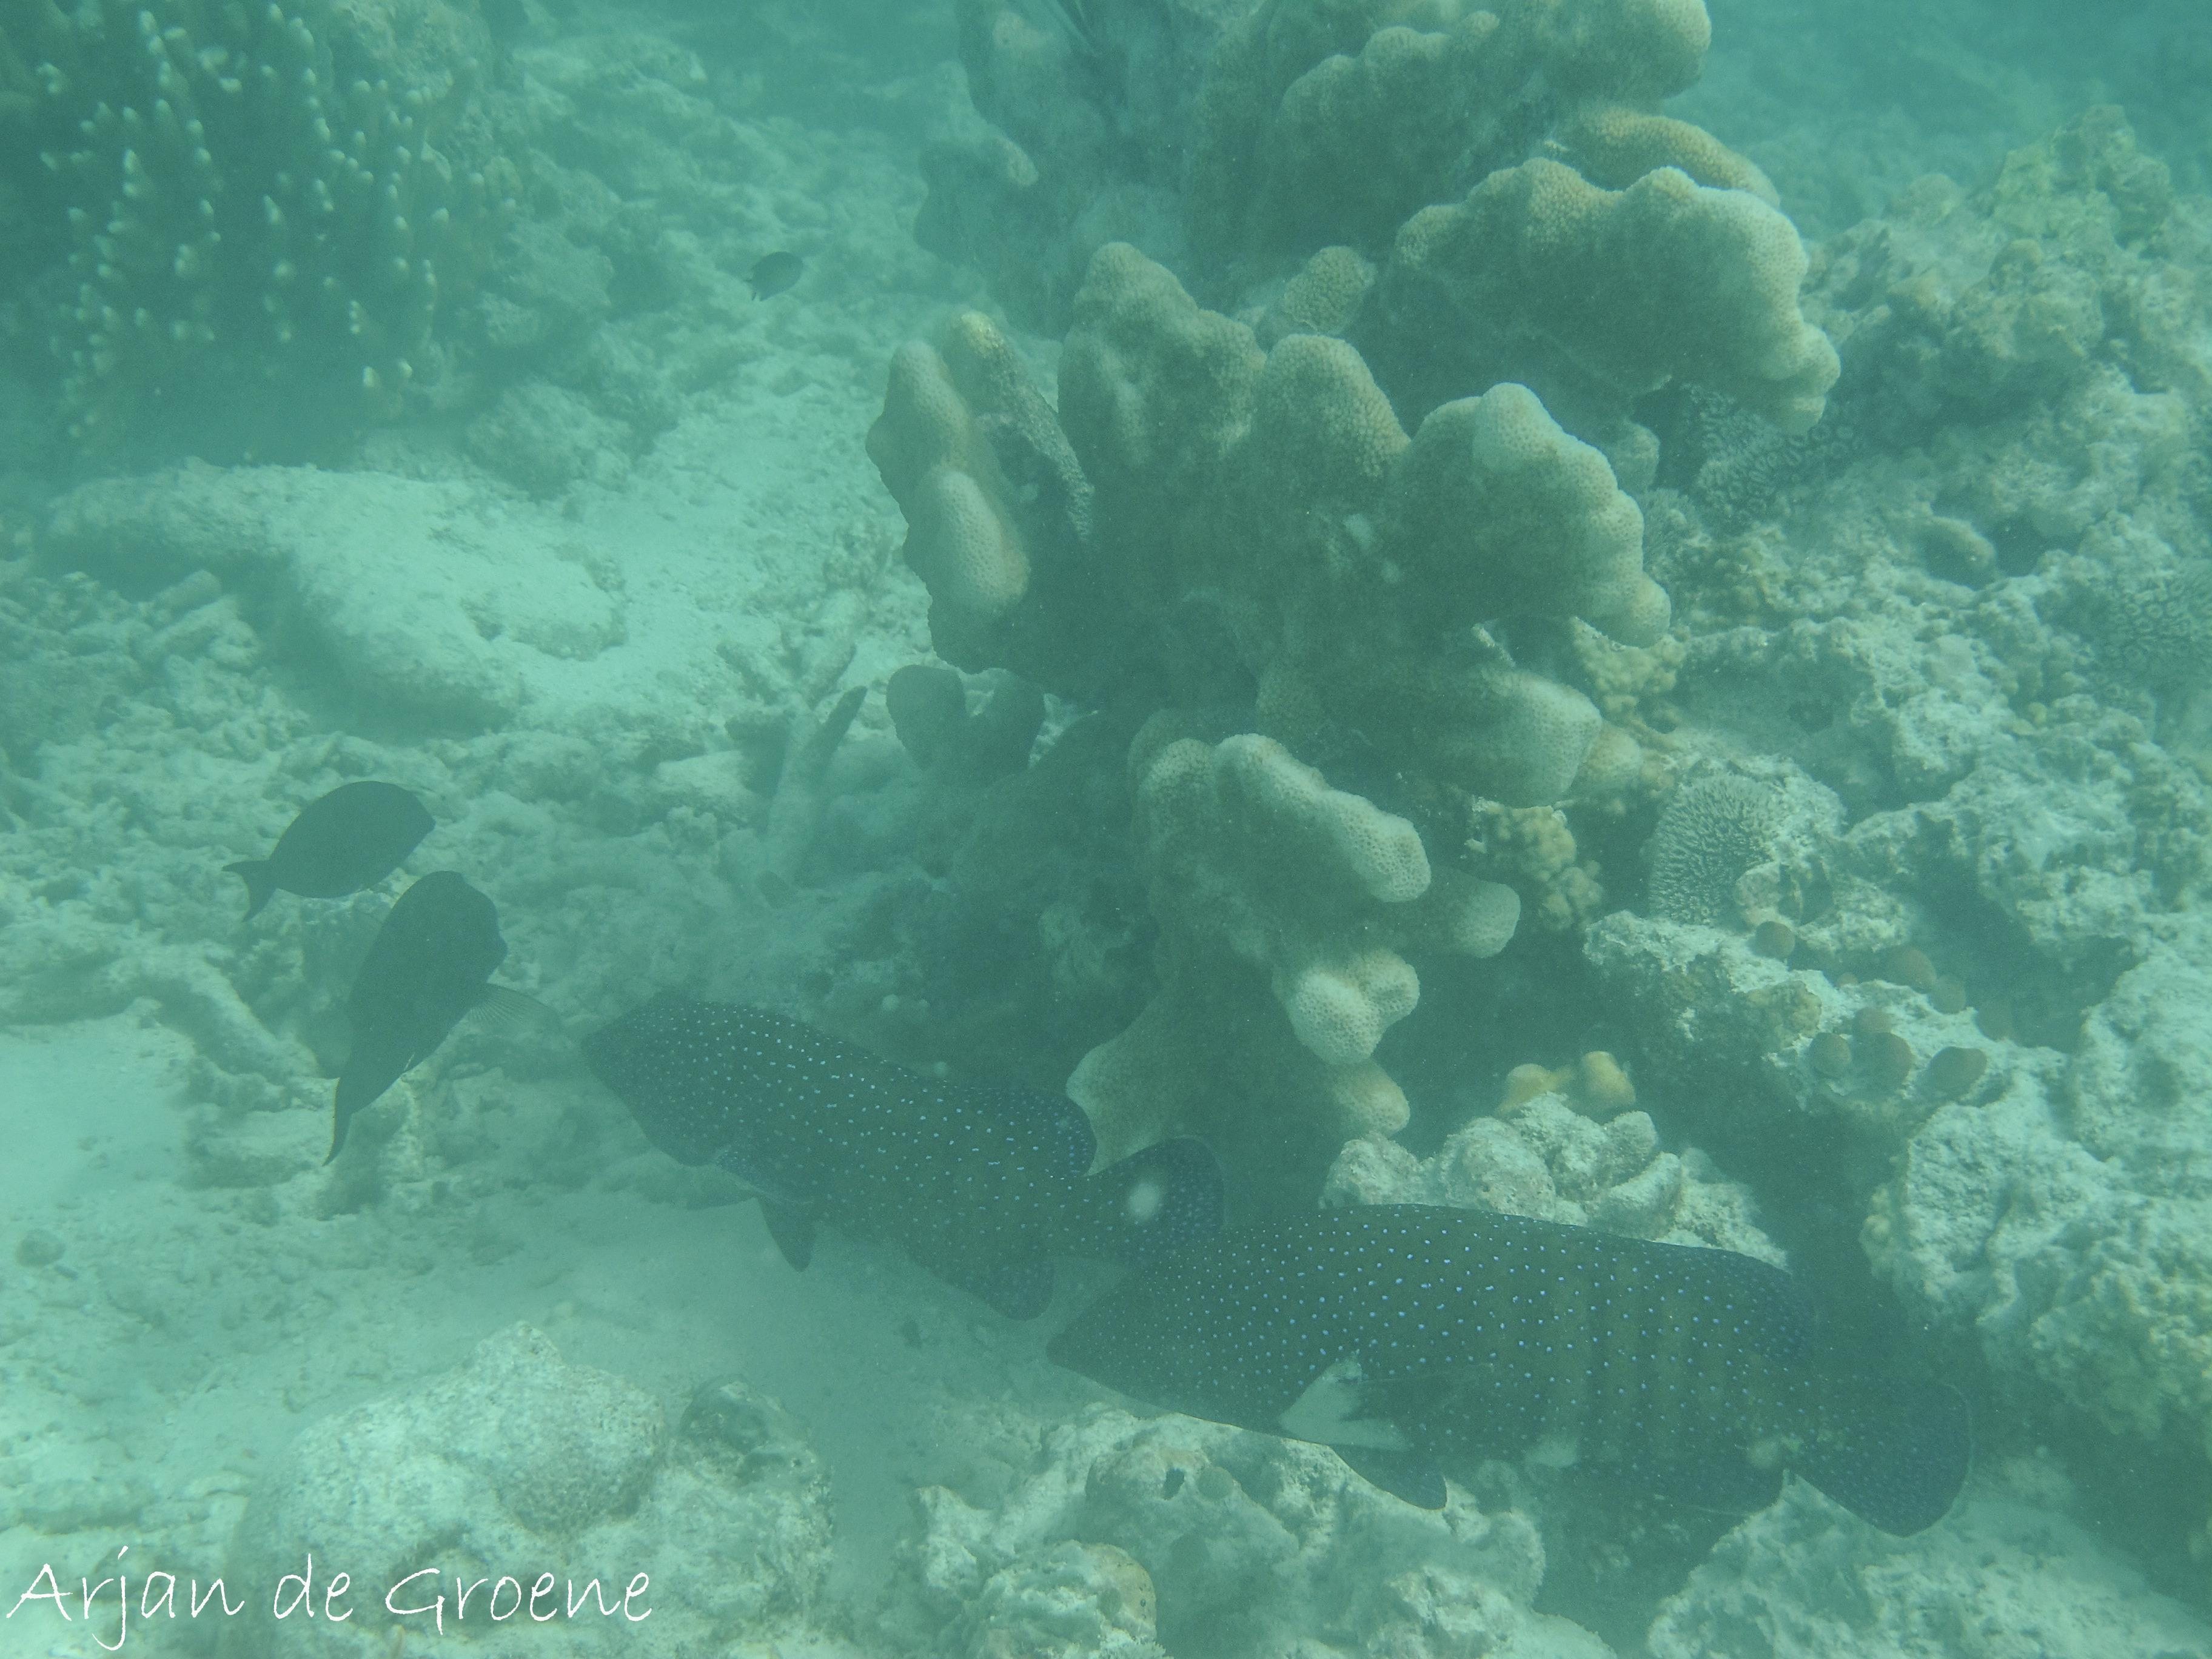Fish: (1043, 1204, 2067, 1579), (556, 943, 1224, 1401)
